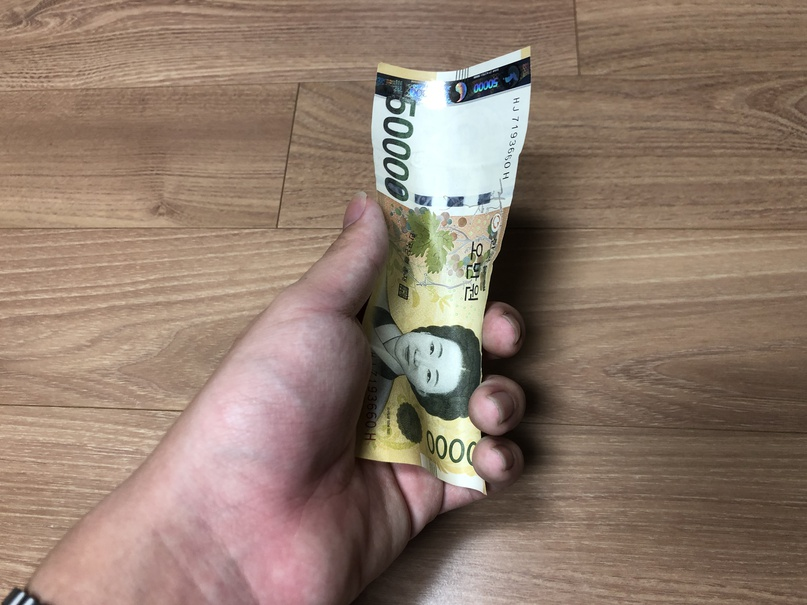50000won: (355, 46, 533, 497)
